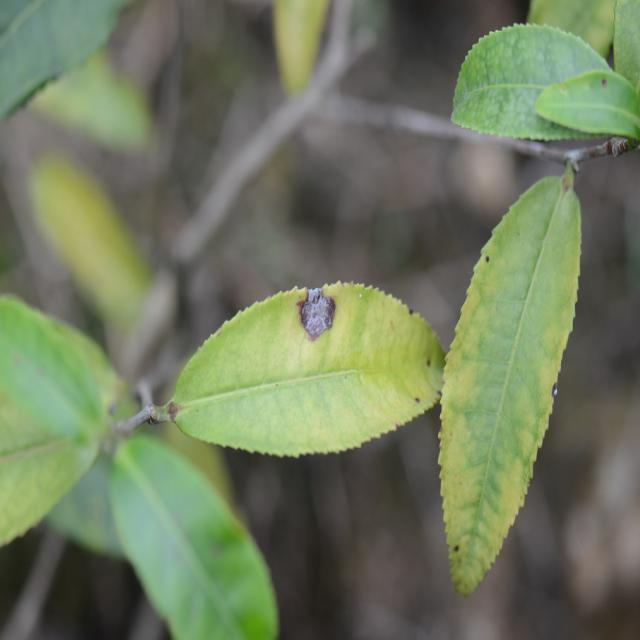Tea red scab: (300, 274, 348, 343)
